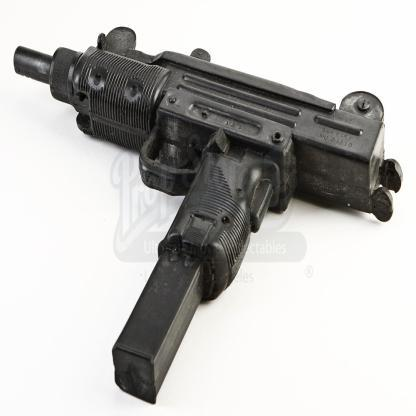gun: (3, 4, 405, 404)
